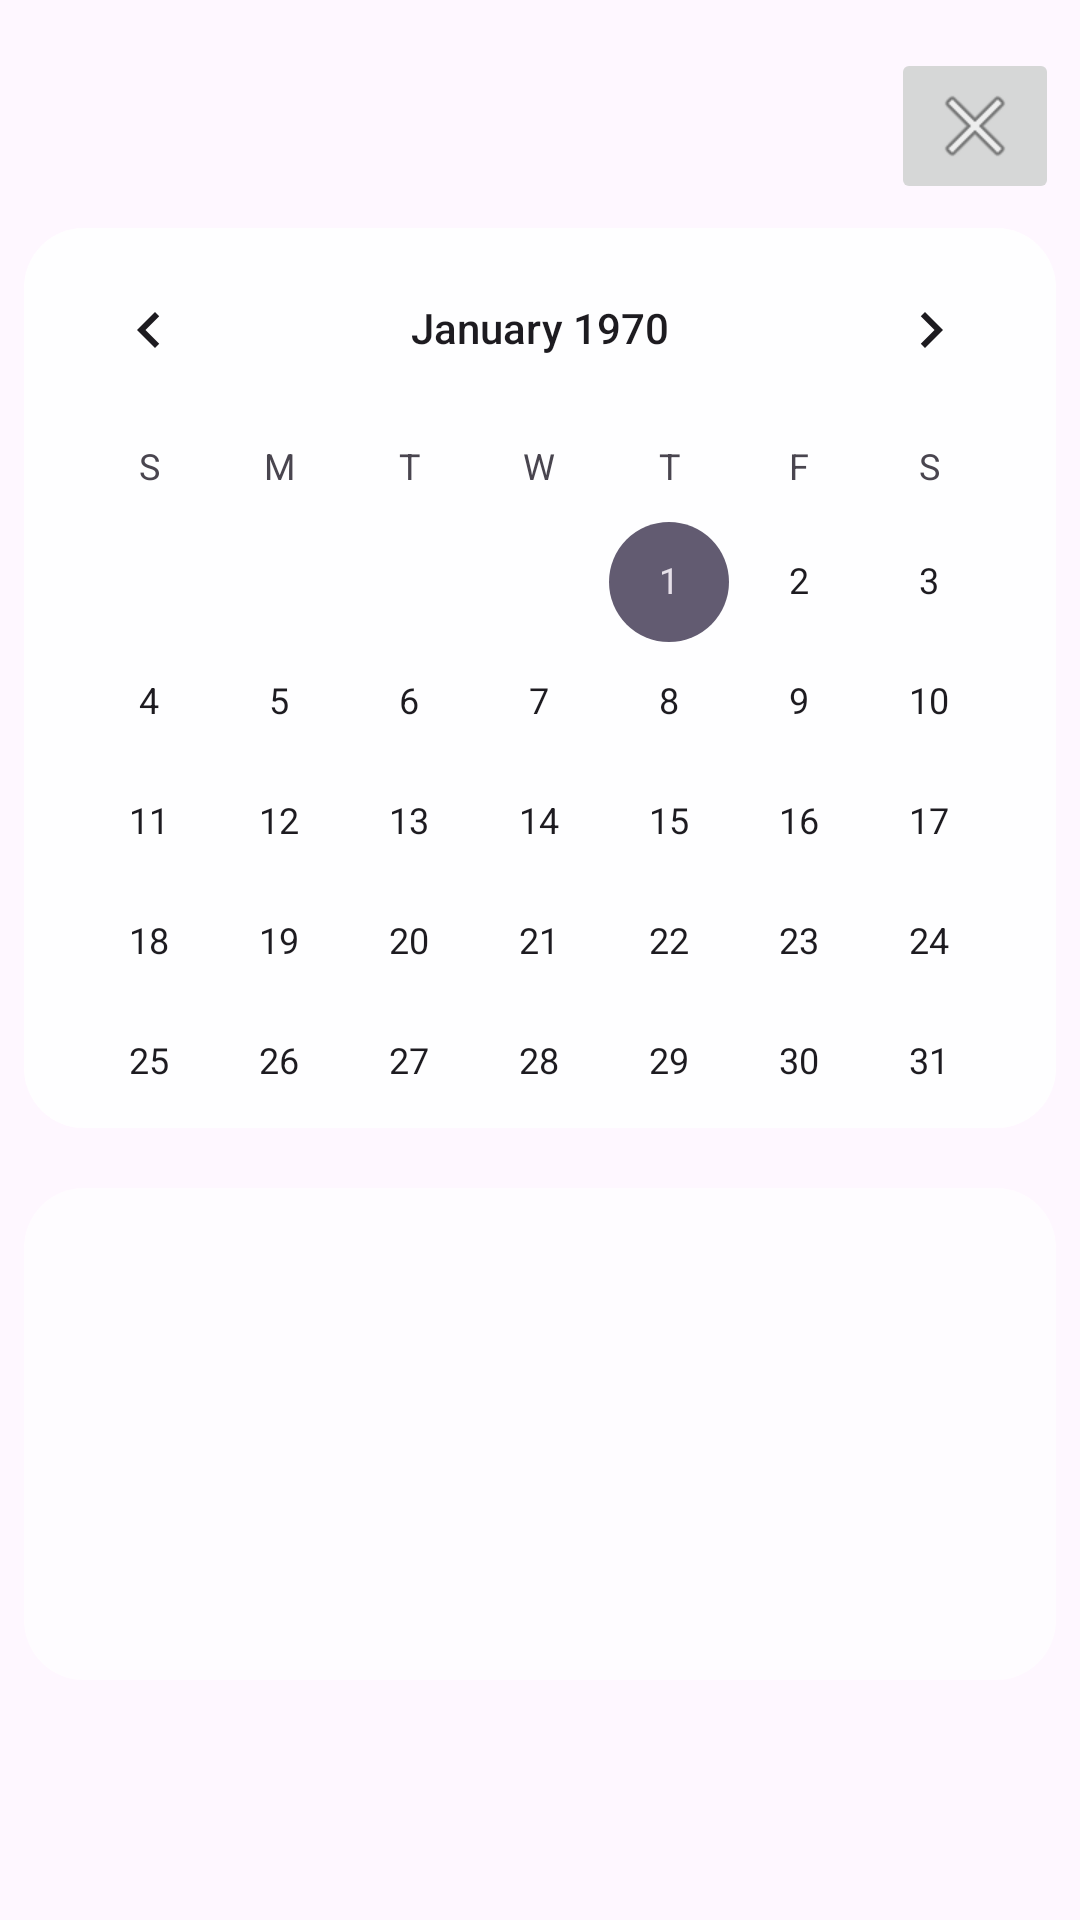

Icon click points for this 1080px×1920px phone screenshot, format [x,y]:
close clear cancel: [975,126]
